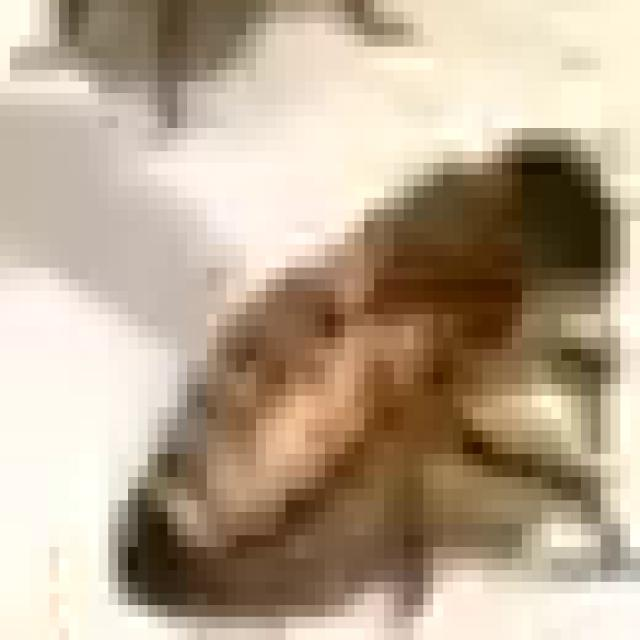honeybee: (136, 125, 602, 616)
